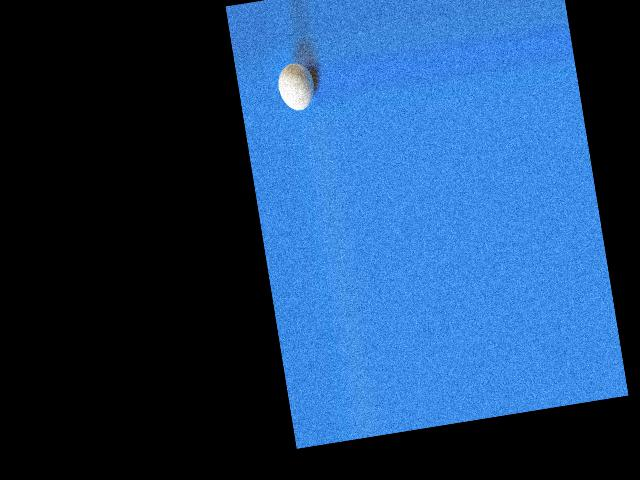egg: (275, 60, 318, 113)
